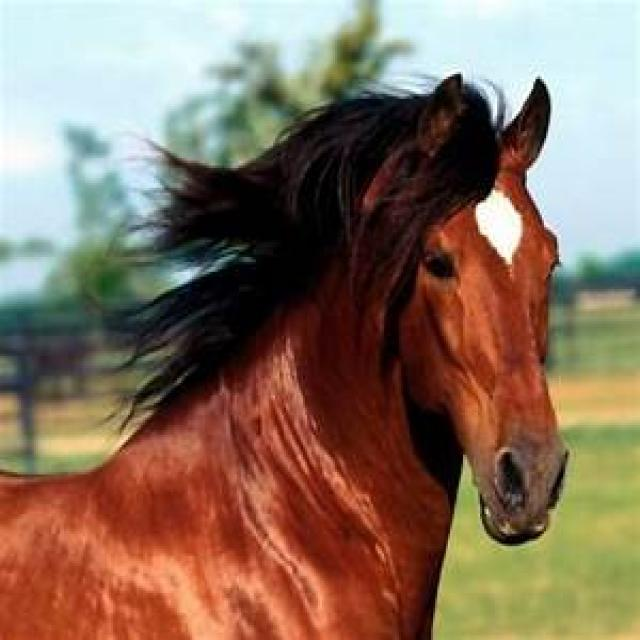horse: (0, 75, 566, 636)
